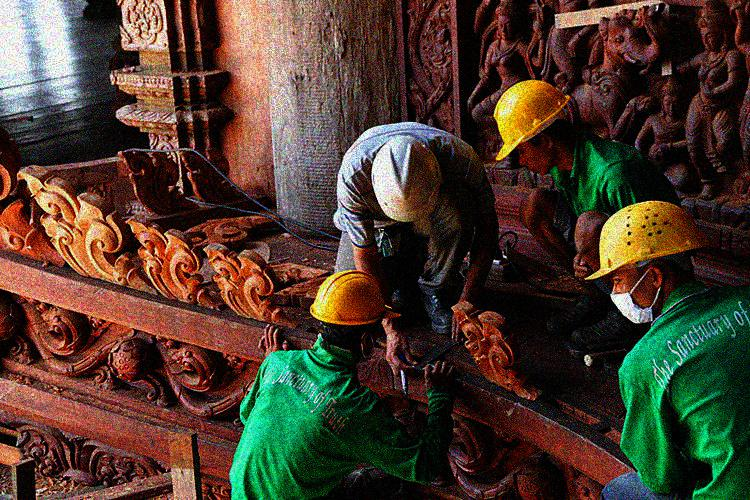helmet: (582, 199, 713, 321), (305, 269, 404, 359), (490, 78, 573, 178), (368, 134, 446, 228)
